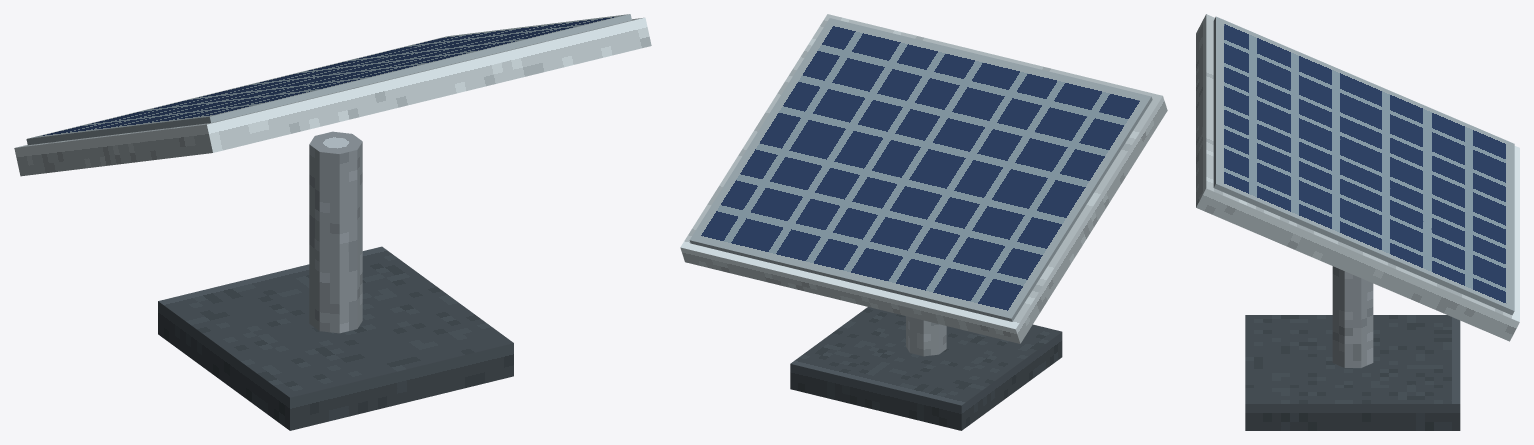
Rendered from f_solar_unit_v2.glb.
The picture shows the model from 3 angles, left to right: view 1: azimuth 30°, elevation 25°; view 2: azimuth 150°, elevation 25°; view 3: azimuth 270°, elevation 25°; orthographic projection. The views are drawn at different scales.
Parts seen in each view (by area): view 1: block_mounting-foot, block_frame, block_mono-crystalline-cells, block_mast; view 2: block_mono-crystalline-cells, block_mounting-foot, block_frame, block_mast; view 3: block_mono-crystalline-cells, block_mounting-foot, block_frame, block_mast.
Boxes of the visible parts, x1,y1,x2,y2 form: block_mounting-foot: [158, 246, 513, 430]; block_frame: [14, 17, 651, 176]; block_mono-crystalline-cells: [26, 14, 631, 145]; block_mast: [309, 131, 362, 333]; block_mono-crystalline-cells: [689, 18, 1152, 321]; block_mounting-foot: [790, 307, 1062, 430]; block_frame: [680, 14, 1167, 343]; block_mast: [906, 316, 946, 356]; block_mono-crystalline-cells: [1213, 16, 1514, 315]; block_mounting-foot: [1245, 315, 1460, 430]; block_frame: [1196, 14, 1519, 341]; block_mast: [1332, 266, 1373, 367].
Bounding box in the file's own units: 0.94 × 0.7199 × 0.7378.
Materials: 1 (1 with a texture image).
